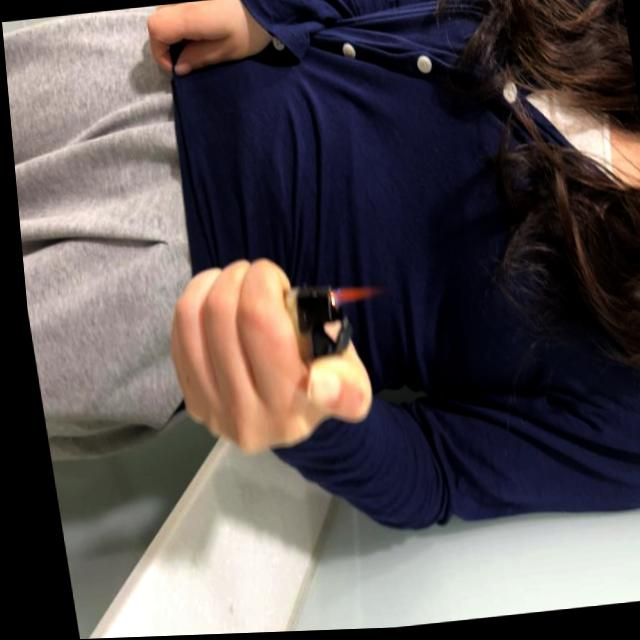Fire: (323, 284, 378, 306)
